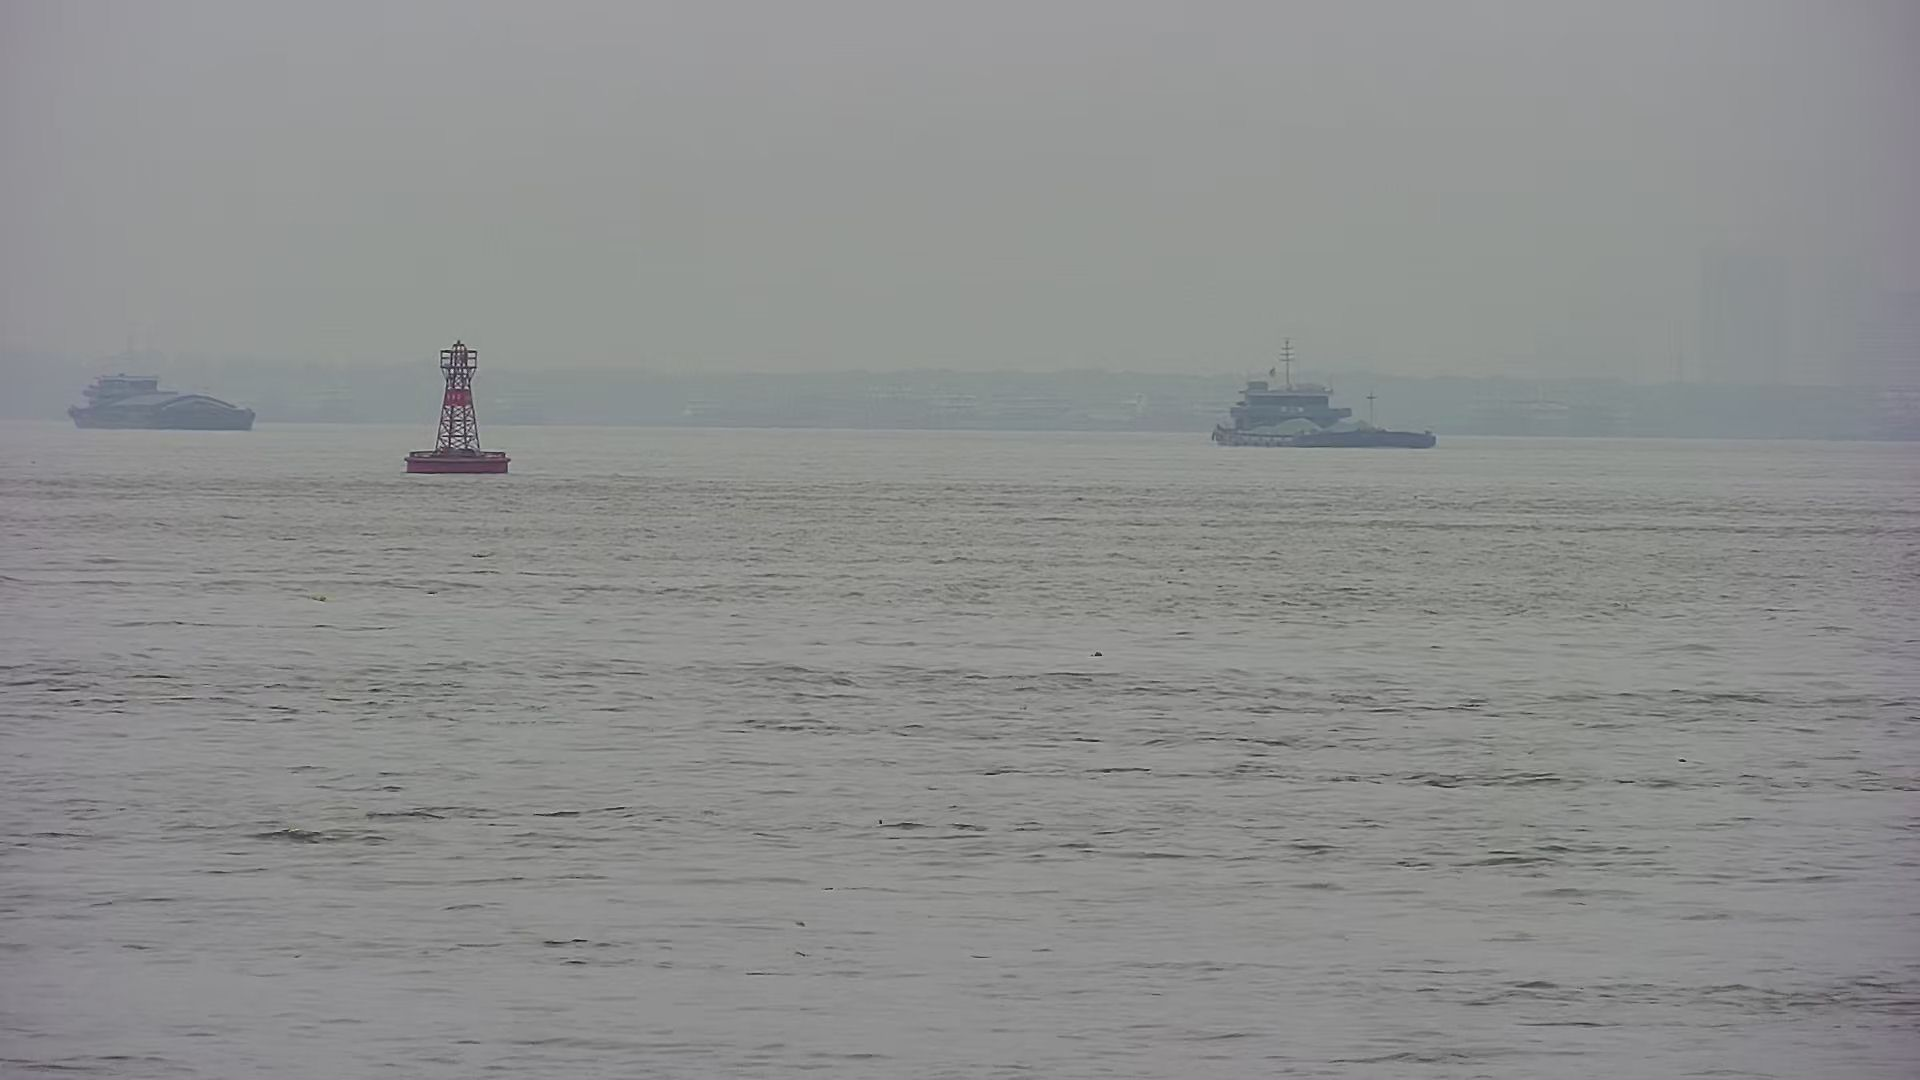buoy: (401, 331, 520, 487)
ship: (1197, 336, 1443, 456), (63, 355, 270, 436)
